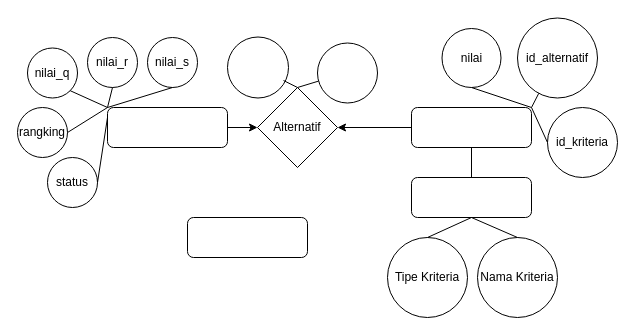
This 635x335 diagram has some shape labels left out. The shapes that lost their labels are listed below. From the top down, each one's centre as x and y in pixels, then its label:
point 257,67: Nama Alternatif
point 347,72: Kode Alternatif
point 167,127: Hasil_Vikor
point 471,127: Penilaian
point 471,197: Kriteria
point 247,237: User
